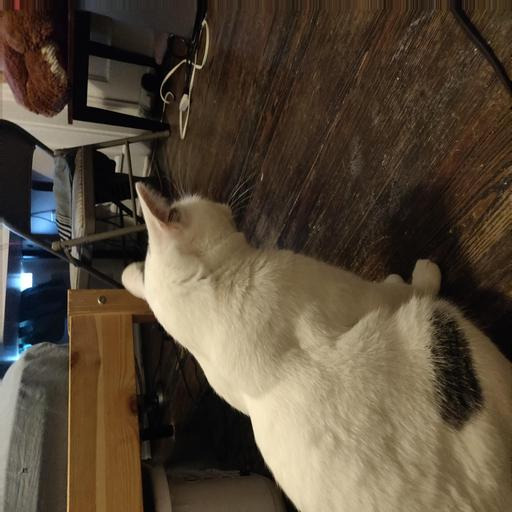cat: (118, 167, 448, 497)
